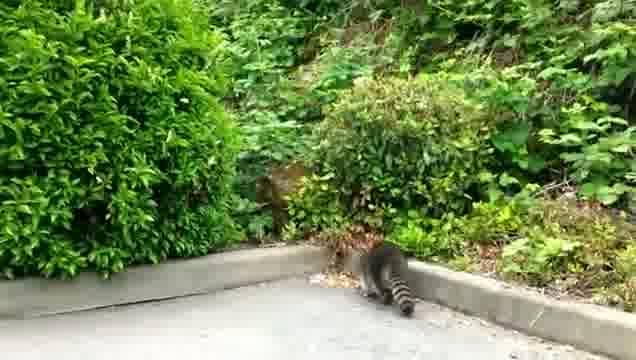raccoon: (360, 237, 417, 316)
